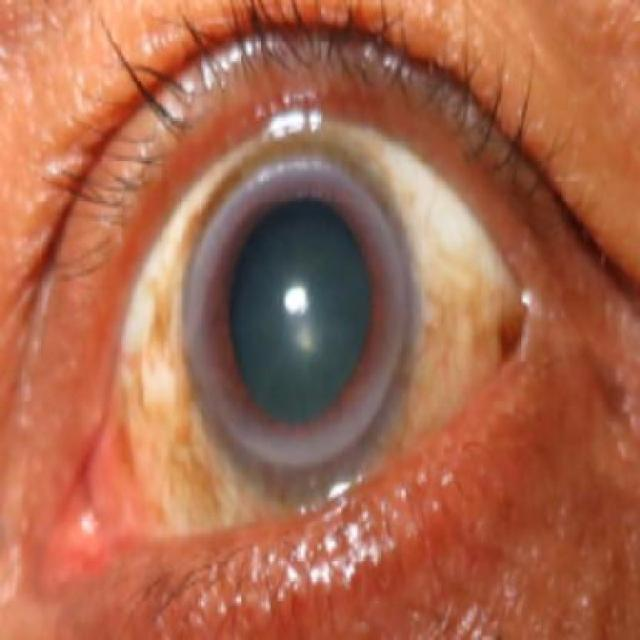Cataract: (179, 156, 420, 473)
